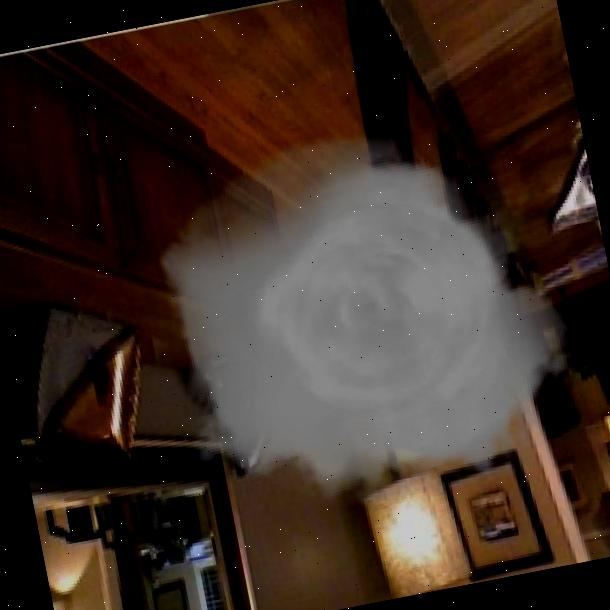smoke: (120, 95, 608, 537)
